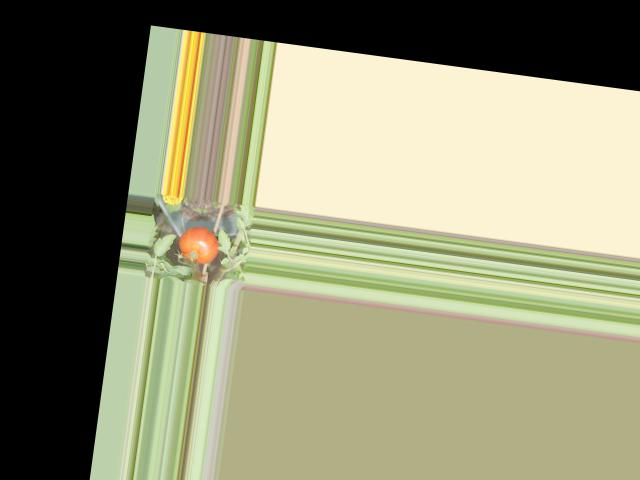tomato: (176, 224, 222, 265)
